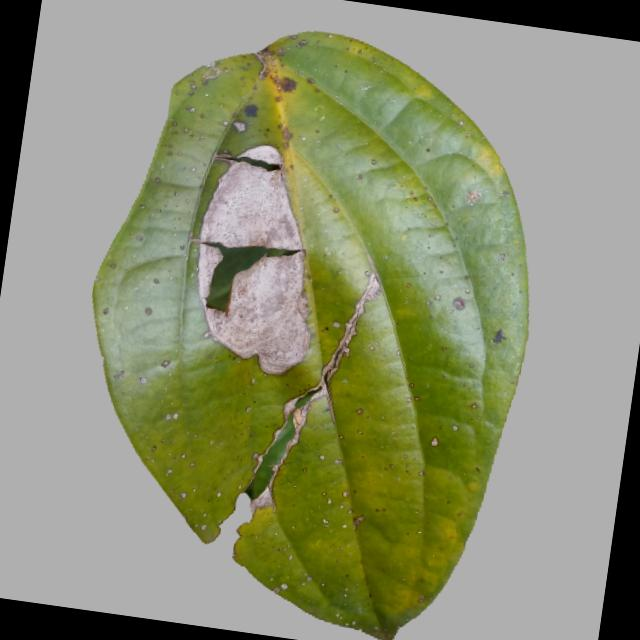leaf-blight: (36, 5, 560, 640)
